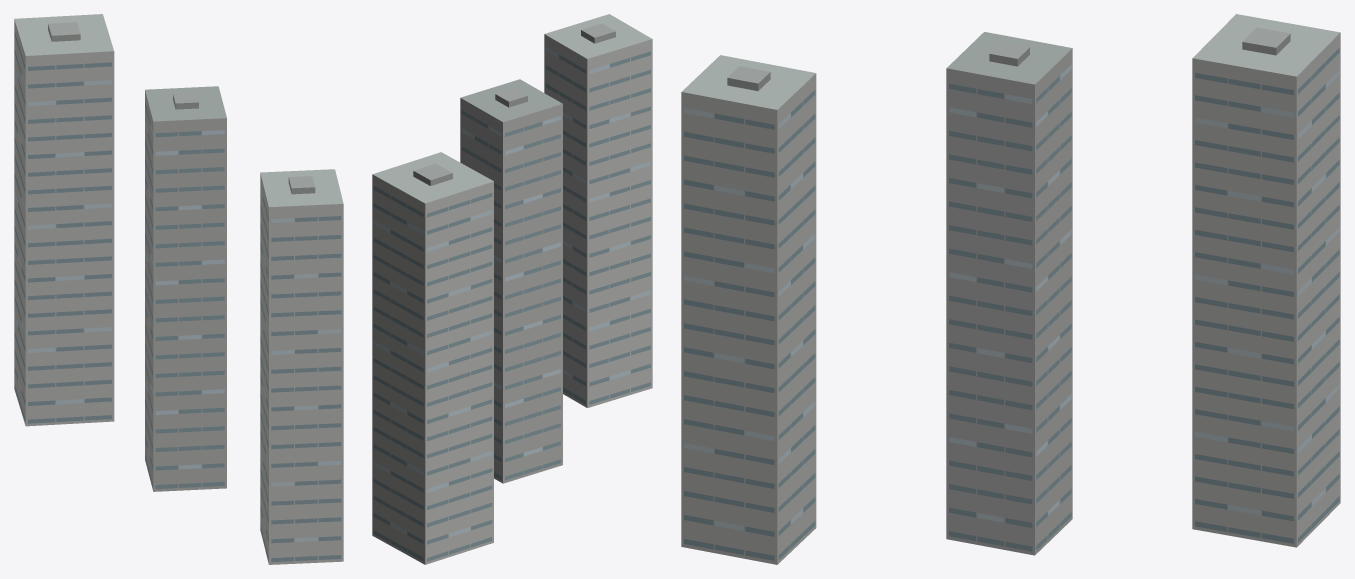
File: apt-a13307003.glb
3 renders of one model, left to right at view 1: azimuth 30°, elevation 25°; view 2: azimuth 150°, elevation 25°; view 3: azimuth 270°, elevation 25°, orthographic. The views are drawn at different scales.
Parts seen in each view (by area): view 1: apt-a13307003; view 2: apt-a13307003; view 3: apt-a13307003.
Part boxes in pixels (x1,y1,x2,y2): apt-a13307003: (14,14,343,564); apt-a13307003: (372,14,652,564); apt-a13307003: (681,14,1340,564).
Size of the model in its own units: 53.8 by 150 by 187.
